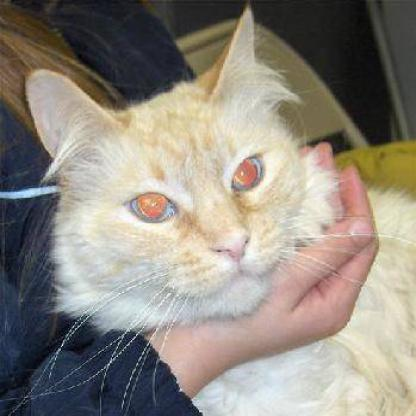cat: (26, 38, 364, 344)
